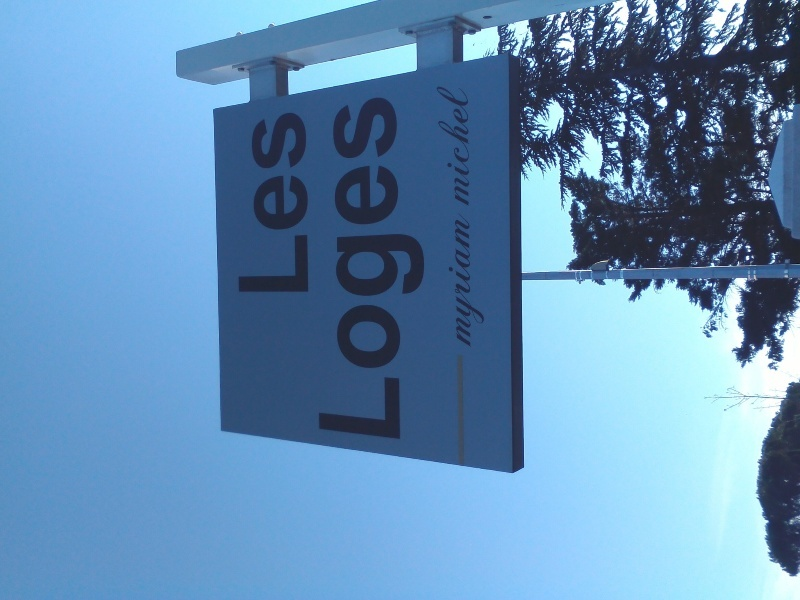text: (337, 93, 352, 447), (353, 93, 368, 447), (369, 93, 384, 447), (385, 93, 400, 447), (401, 93, 416, 447), (322, 93, 336, 447), (417, 93, 429, 447), (241, 109, 256, 299), (257, 109, 272, 299), (273, 109, 288, 299), (289, 109, 304, 299), (449, 216, 464, 347), (465, 216, 480, 347), (449, 83, 464, 208), (436, 83, 448, 208), (233, 109, 240, 299), (305, 109, 312, 299), (465, 83, 472, 208), (481, 216, 486, 347), (447, 216, 448, 347)
